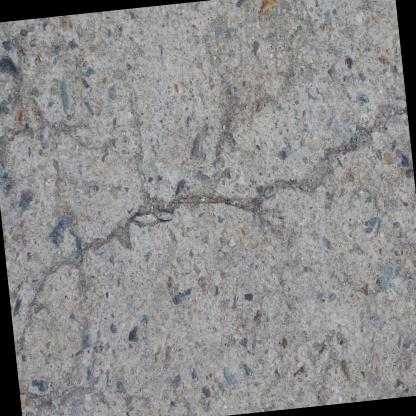crack: (19, 99, 407, 327)
